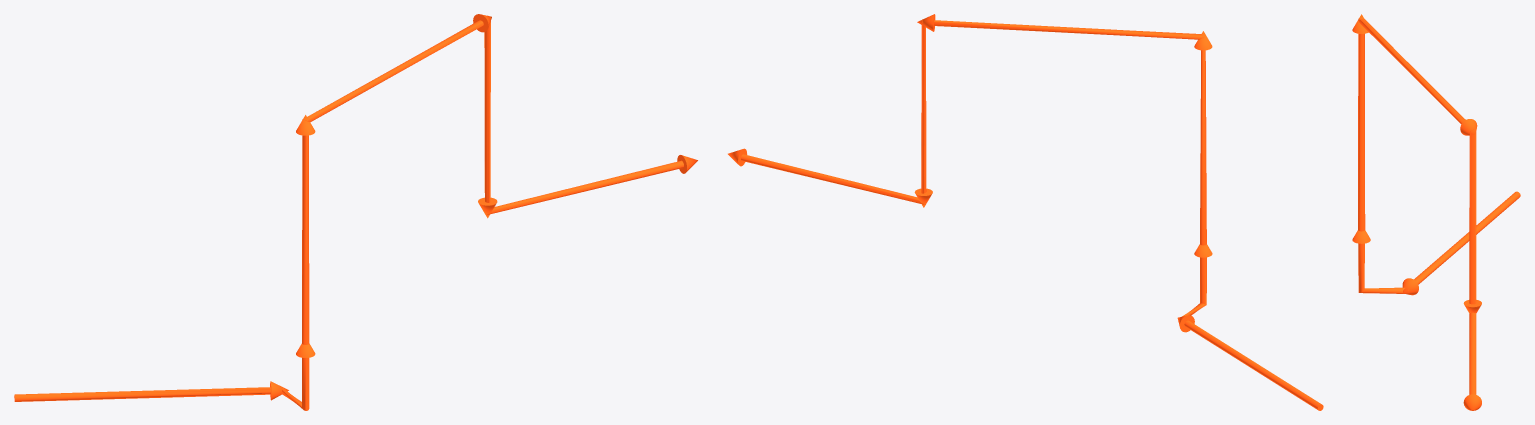
Rendered from chemical_dosing_system_flow.glb.
The picture shows the model from 3 angles, left to right: view 1: azimuth 30°, elevation 25°; view 2: azimuth 150°, elevation 25°; view 3: azimuth 270°, elevation 25°; orthographic projection. The views are drawn at different scales.
Parts seen in each view (by area): view 1: flow_chem; view 2: flow_chem; view 3: flow_chem.
Boxes of the visible parts, left/top/right/bottom form: flow_chem: left=14, top=14, right=697, bottom=410; flow_chem: left=728, top=14, right=1323, bottom=410; flow_chem: left=1352, top=14, right=1520, bottom=410.
Size of the model in its own units: 1.62 by 0.7116 by 0.378.
